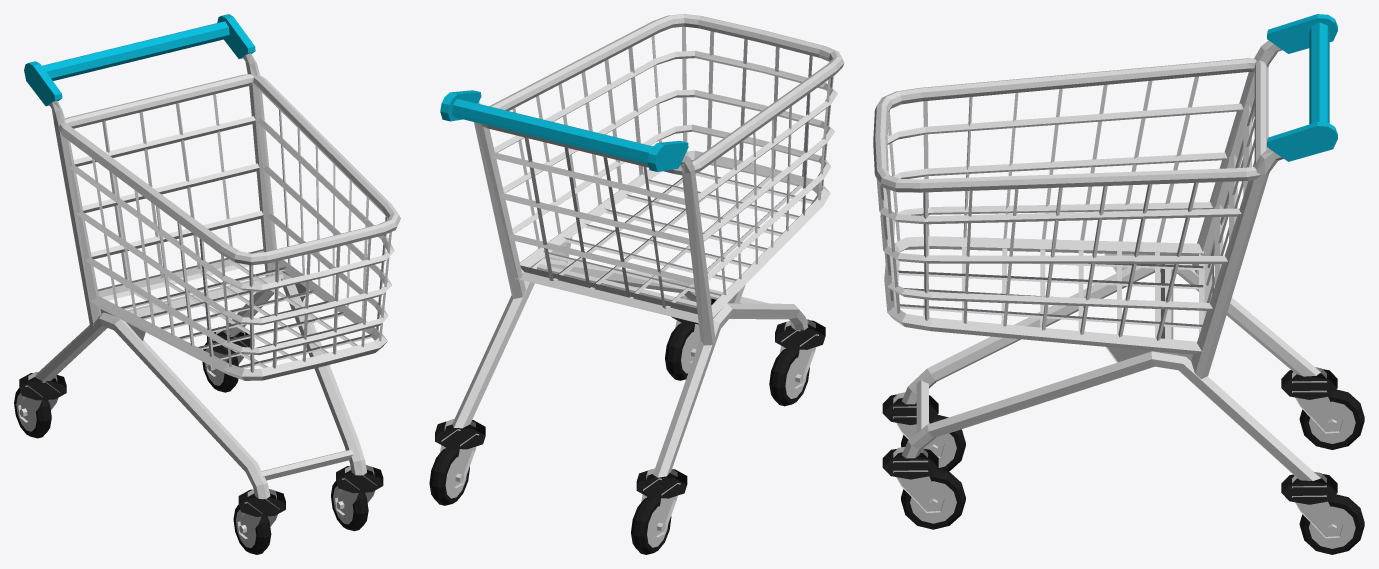
Rendered from karrttt.glb.
3 renders of one model, left to right at view 1: azimuth 30°, elevation 25°; view 2: azimuth 150°, elevation 25°; view 3: azimuth 270°, elevation 25°, orthographic. The views are drawn at different scales.
Bounding box in the file's own units: 0.5602 × 0.8765 × 0.9057.
